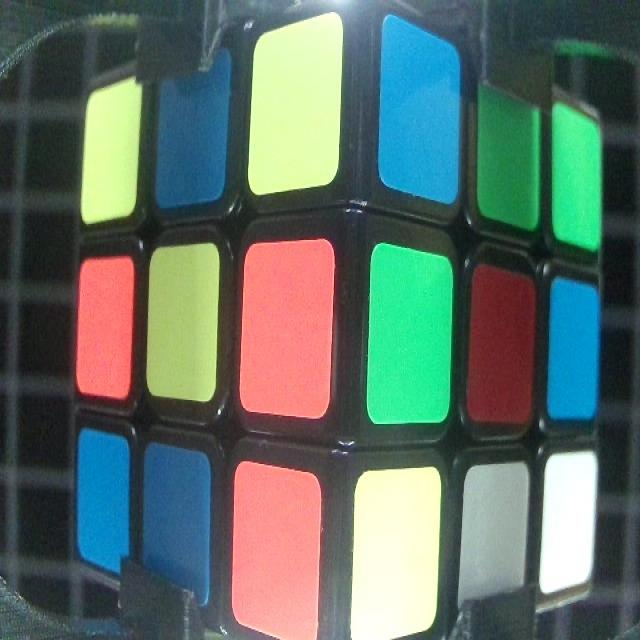b: (384, 15, 460, 202), (142, 444, 209, 602), (157, 57, 226, 197), (80, 429, 130, 562), (552, 281, 599, 418)
g: (370, 241, 449, 418), (479, 56, 542, 224), (550, 99, 604, 249)
o: (232, 461, 321, 640), (245, 242, 333, 412), (78, 255, 131, 393)
r: (470, 259, 533, 421)
w: (465, 462, 530, 618), (542, 448, 594, 589)
y: (253, 17, 339, 191), (354, 468, 438, 633), (148, 246, 219, 396), (81, 77, 141, 222)
